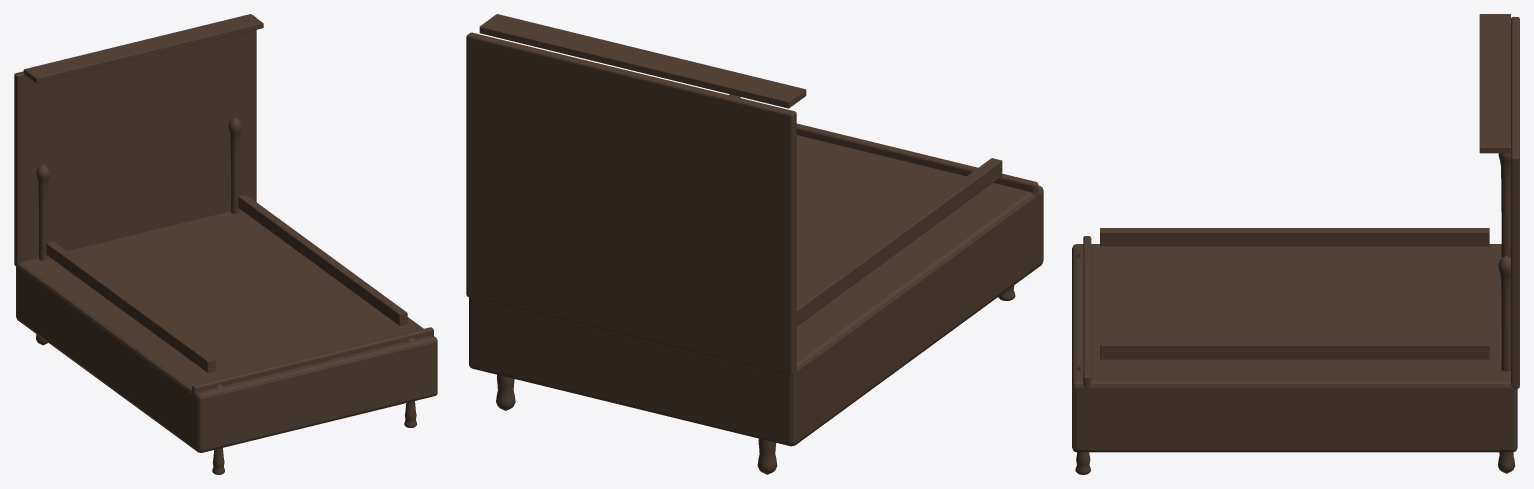
File: bed.glb
3 views of the same model, side by side, from view 1: azimuth 30°, elevation 25°; view 2: azimuth 150°, elevation 25°; view 3: azimuth 270°, elevation 25° (orthographic). The views are drawn at different scales.
Visible parts, largest first — view 1: bedBase, headboard, headboardShelf, railL, railR, footboard, headPostL, headPostR; view 2: headboard, bedBase, headboardShelf, railL, footboard; view 3: bedBase, railL, railR, headboardShelf, headboard, headPostR, footboard, headPostL.
Part boxes in pixels (x1=…): bedBase: x1=16, y1=209, x2=437, y2=452; headboard: x1=14, y1=15, x2=256, y2=266; headboardShelf: x1=23, y1=14, x2=263, y2=83; railL: x1=46, y1=241, x2=215, y2=372; railR: x1=238, y1=194, x2=407, y2=325; footboard: x1=192, y1=327, x2=433, y2=395; headPostL: x1=36, y1=164, x2=49, y2=345; headPostR: x1=228, y1=117, x2=241, y2=213; headboard: x1=466, y1=32, x2=796, y2=375; bedBase: x1=469, y1=135, x2=1043, y2=446; headboardShelf: x1=479, y1=14, x2=806, y2=108; railL: x1=796, y1=158, x2=1002, y2=326; footboard: x1=796, y1=123, x2=1038, y2=253; bedBase: x1=1072, y1=244, x2=1517, y2=452; railL: x1=1100, y1=228, x2=1489, y2=246; railR: x1=1100, y1=341, x2=1489, y2=359; headboardShelf: x1=1479, y1=14, x2=1510, y2=153; headboard: x1=1511, y1=16, x2=1519, y2=388; headPostR: x1=1498, y1=255, x2=1515, y2=473; footboard: x1=1083, y1=236, x2=1091, y2=428; headPostL: x1=1498, y1=153, x2=1510, y2=257.
Size of the model in its own units: 1.5 by 1.67 by 2.01.
